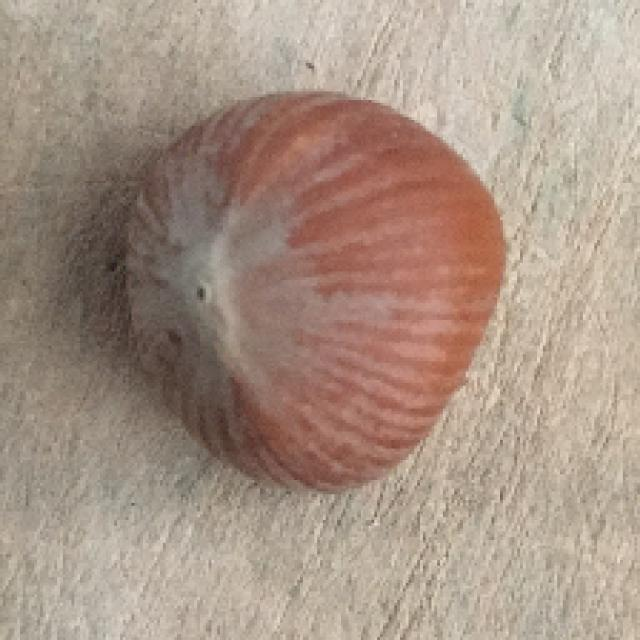qualityHazelnut: (117, 86, 505, 499)
